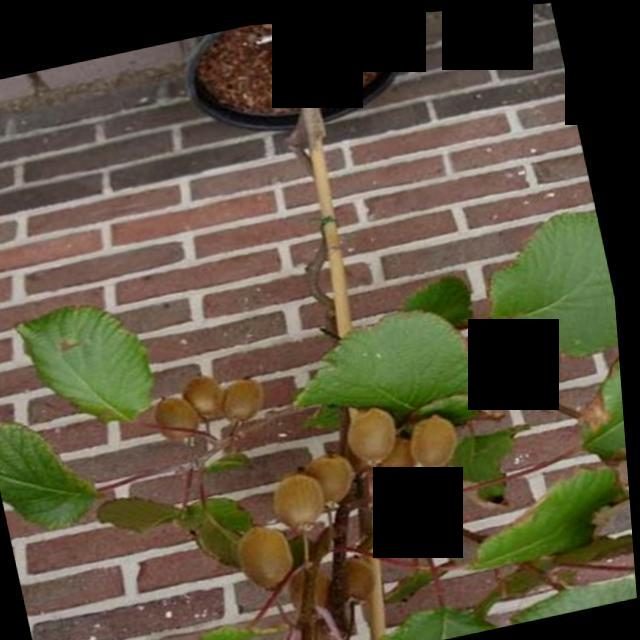kiwi: (235, 518, 302, 591), (348, 402, 409, 466), (274, 467, 333, 528), (306, 447, 364, 506), (411, 413, 467, 472), (288, 557, 340, 615), (156, 388, 207, 438), (226, 373, 276, 420), (336, 553, 383, 602), (187, 368, 233, 416), (383, 434, 424, 477)
